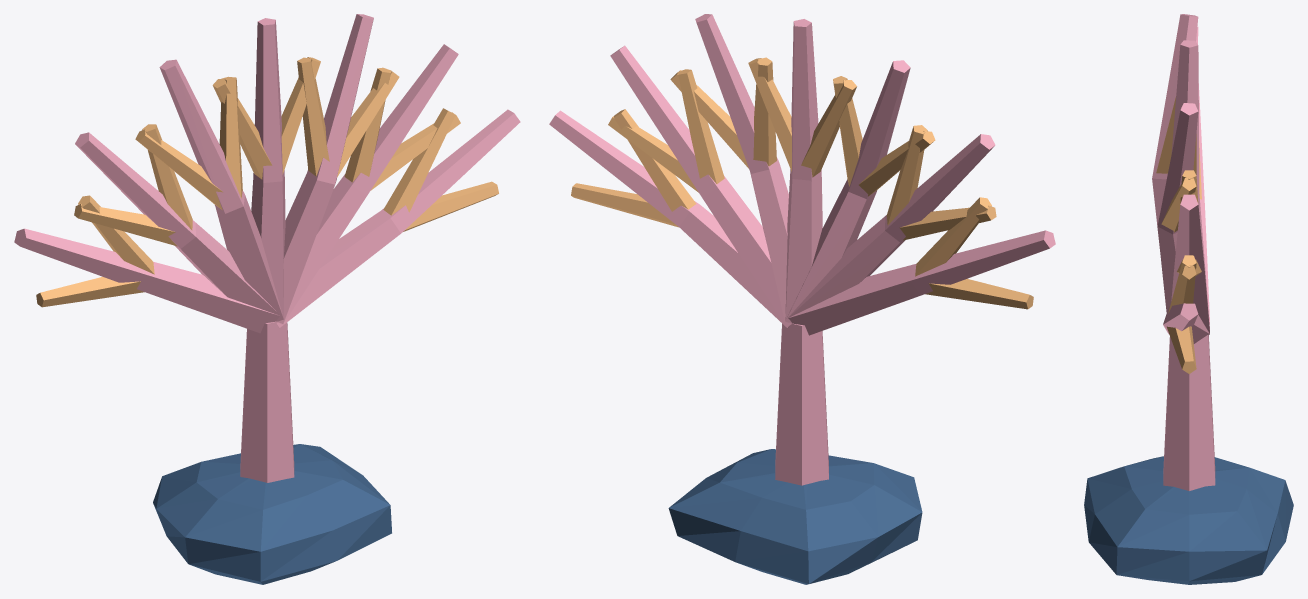
File: branching_fan.glb
The picture shows the model from 3 angles, left to right: view 1: azimuth 30°, elevation 25°; view 2: azimuth 150°, elevation 25°; view 3: azimuth 270°, elevation 25°; orthographic projection. The views are drawn at different scales.
Visible parts, largest first — view 1: DL006_BranchingFan_coral_pink, DL006_BranchingFan_shadow_blue, DL006_BranchingFan_coral_orange; view 2: DL006_BranchingFan_coral_pink, DL006_BranchingFan_shadow_blue, DL006_BranchingFan_coral_orange; view 3: DL006_BranchingFan_shadow_blue, DL006_BranchingFan_coral_pink, DL006_BranchingFan_coral_orange.
Part boxes in pixels (x1,y1,x2,y2): DL006_BranchingFan_coral_pink: (14, 14, 520, 482); DL006_BranchingFan_shadow_blue: (153, 444, 391, 584); DL006_BranchingFan_coral_orange: (36, 57, 498, 307); DL006_BranchingFan_coral_pink: (549, 14, 1055, 485); DL006_BranchingFan_shadow_blue: (668, 449, 922, 584); DL006_BranchingFan_coral_orange: (571, 57, 1033, 309); DL006_BranchingFan_shadow_blue: (1084, 456, 1293, 584); DL006_BranchingFan_coral_pink: (1152, 14, 1215, 490); DL006_BranchingFan_coral_orange: (1156, 96, 1201, 373).
Bounding box in the file's own units: 2.06 × 2.11 × 0.7704.
